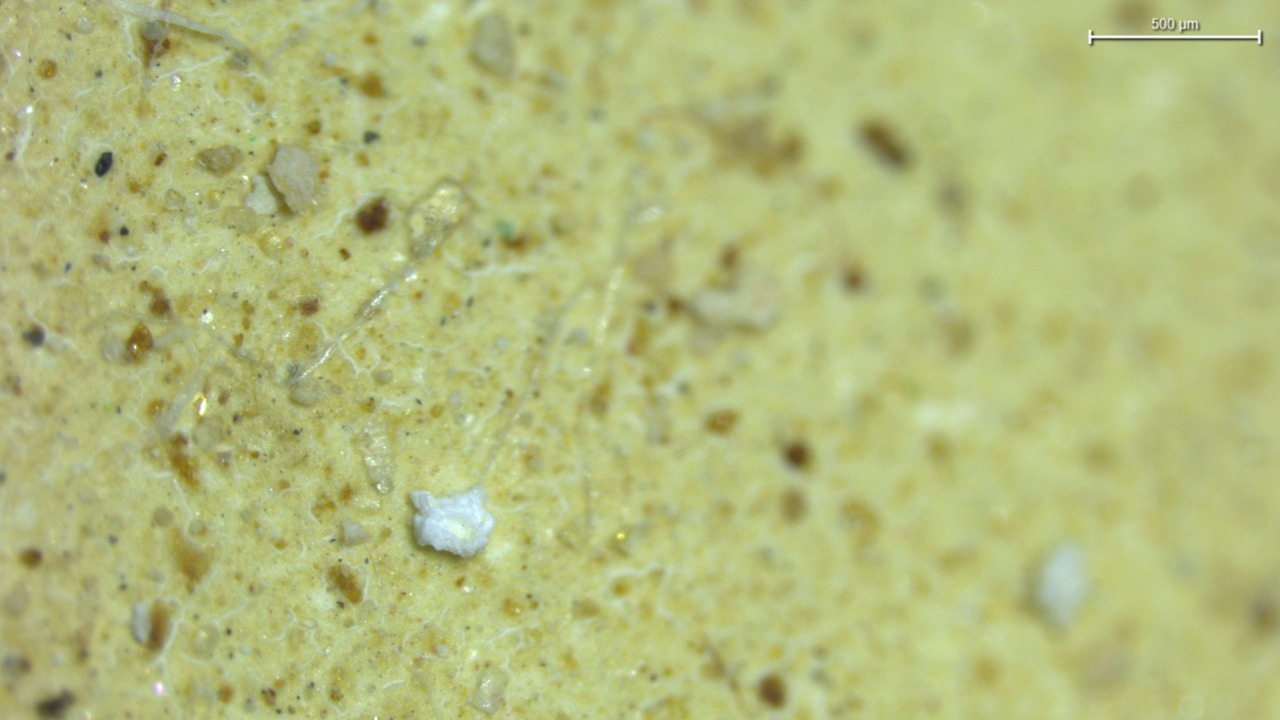microplastic_fragment: (409, 490, 496, 559), (269, 142, 323, 213)
